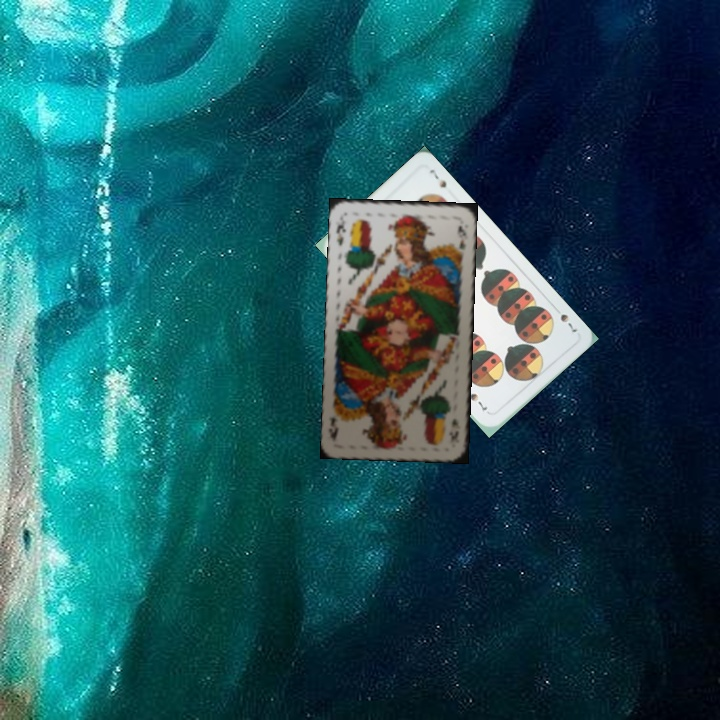EK: (332, 220, 348, 248), (447, 414, 461, 445)
S7: (556, 310, 580, 335)
